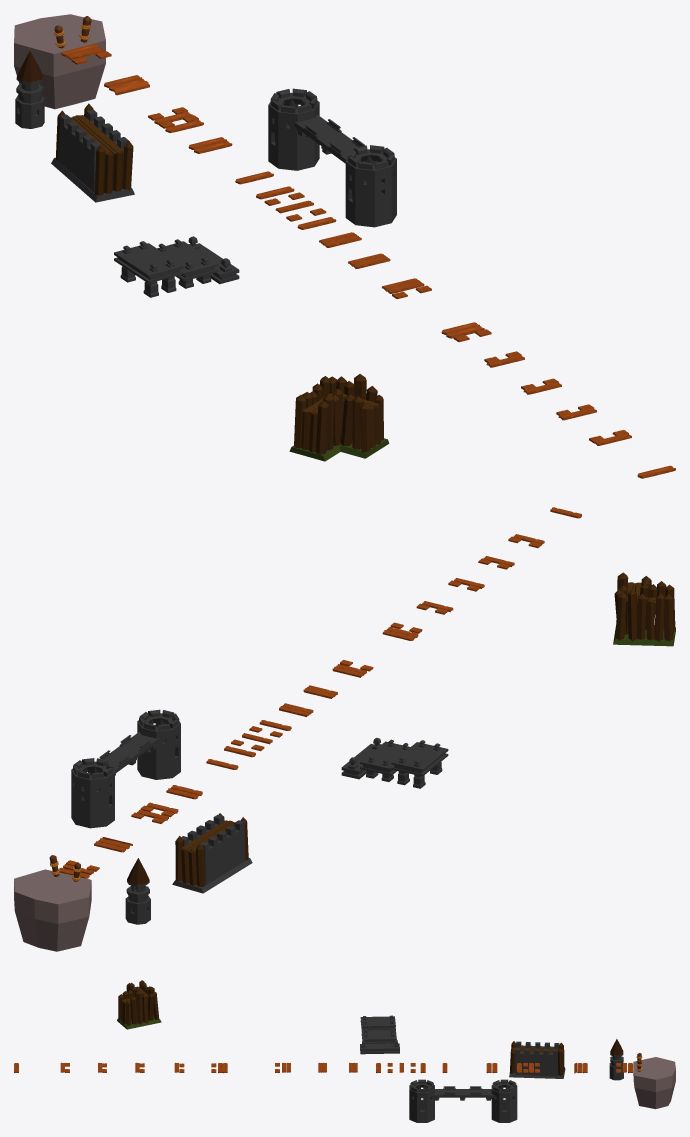
3 views of the same model, one above another, from view 1: azimuth 30°, elevation 25°; view 2: azimuth 150°, elevation 25°; view 3: azimuth 270°, elevation 25° (orthographic). The views are drawn at different scales.
Visible parts, largest first — view 1: Plane_001, WoodenStake, Ramp, WallTower__1_, WallTower, Walls, WoodenStake_1, HightTower, StoneBridge, Platform, Platform_1; view 2: Plane_001, WoodenStake, Ramp, WallTower, WallTower__1_, Walls, WoodenStake_1, HightTower, StoneBridge; view 3: Plane_001, WoodenStake, Ramp, Walls, WallTower, WallTower__1_, StoneBridge, HightTower, WoodenStake_1.
Boxes of the visible parts, <box> form: Plane_001: <box>14,14,105,109</box>; WoodenStake: <box>294,374,383,454</box>; Ramp: <box>114,236,239,297</box>; WallTower__1_: <box>345,145,396,227</box>; WallTower: <box>268,88,319,170</box>; Walls: <box>58,109,128,192</box>; WoodenStake_1: <box>55,103,133,195</box>; HightTower: <box>15,51,44,128</box>; StoneBridge: <box>294,114,377,164</box>; Platform: <box>289,438,389,461</box>; Platform_1: <box>51,157,134,202</box>; Plane_001: <box>14,869,91,951</box>; WoodenStake: <box>614,572,675,641</box>; Ramp: <box>341,738,448,788</box>; WallTower: <box>71,758,114,828</box>; WallTower__1_: <box>137,709,180,779</box>; Walls: <box>181,814,245,885</box>; WoodenStake_1: <box>175,813,248,886</box>; HightTower: <box>125,858,150,924</box>; StoneBridge: <box>88,732,158,775</box>; Plane_001: <box>633,1057,675,1109</box>; WoodenStake: <box>118,980,159,1025</box>; Ramp: <box>360,1015,399,1054</box>; Walls: <box>514,1041,559,1076</box>; WallTower: <box>491,1079,517,1122</box>; WallTower__1_: <box>409,1079,434,1122</box>; StoneBridge: <box>430,1086,495,1100</box>; HightTower: <box>609,1039,623,1080</box>; WoodenStake_1: <box>509,1041,564,1076</box>.
Size of the model in its own units: 3699 by 1156 by 10979.
